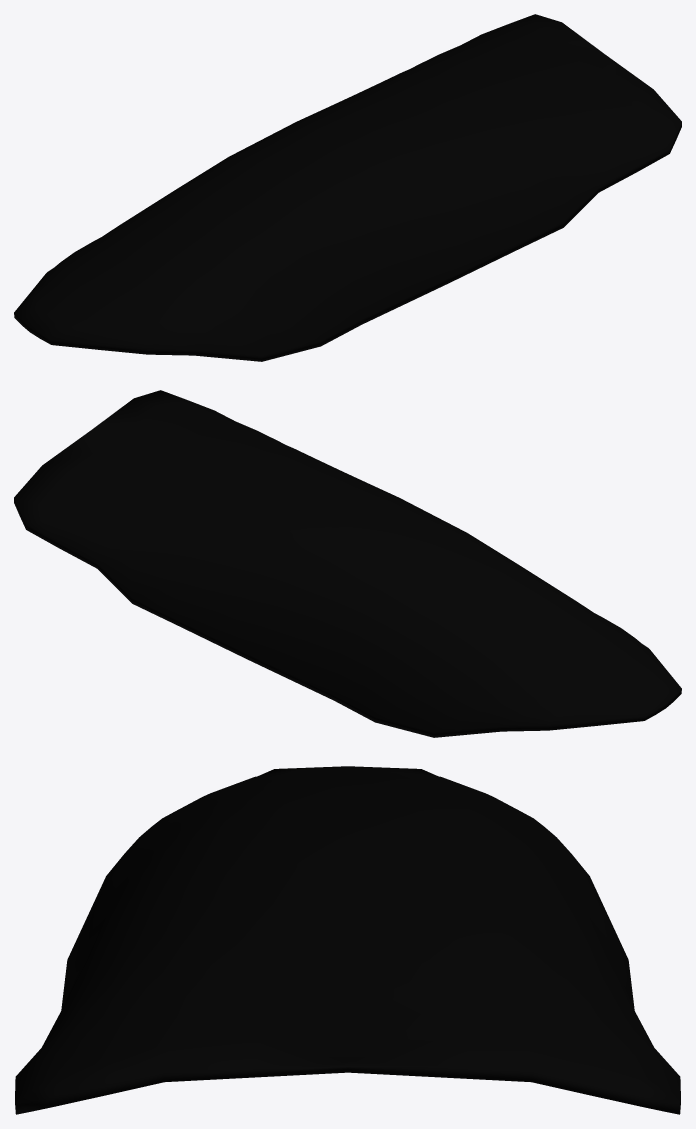
The model's file is hatch.obj.
The picture shows the model from 3 angles, top to bottom: view 1: azimuth 30°, elevation 25°; view 2: azimuth 150°, elevation 25°; view 3: azimuth 270°, elevation 25°; orthographic projection. The views are drawn at different scales.
Parts seen in each view (by area): view 1: hatch; view 2: hatch; view 3: hatch.
Boxes of the visible parts, x1=… form: hatch: x1=14, y1=14, x2=681, y2=361; hatch: x1=14, y1=390, x2=681, y2=737; hatch: x1=15, y1=766, x2=680, y2=1114.
Size of the model in its own units: 3.02 by 0.7768 by 1.5.
1 material, 1 textured.
